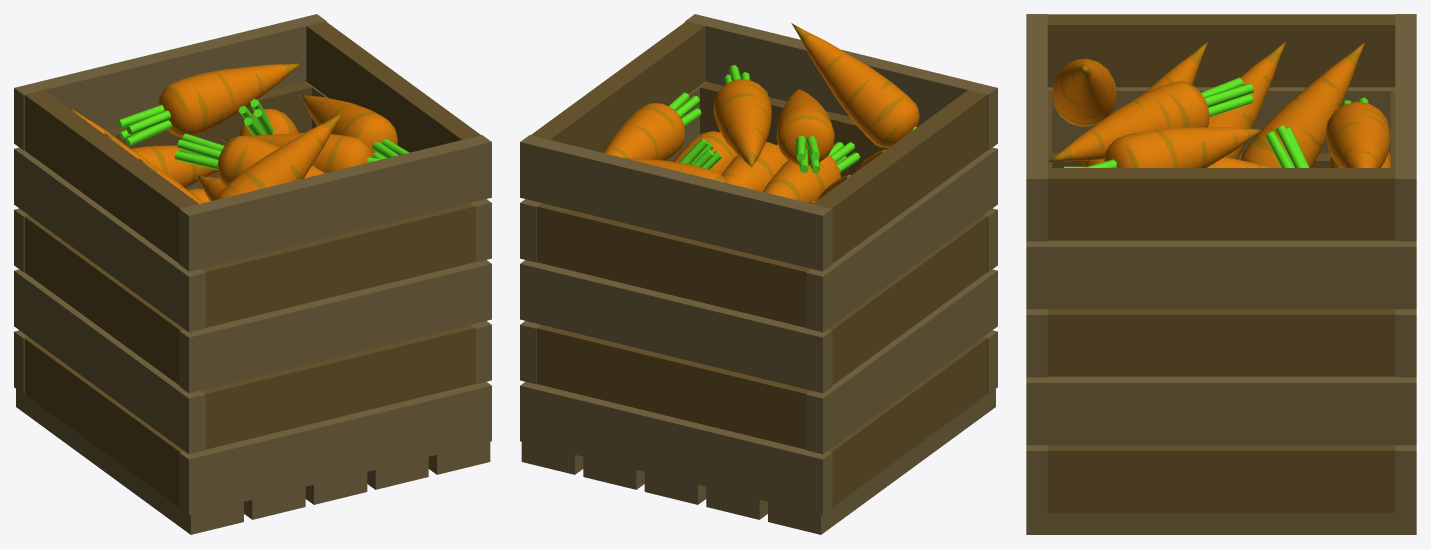
The model's file is Carrot_Сrop.fbx.
3 views of the same model, side by side, from view 1: azimuth 30°, elevation 25°; view 2: azimuth 150°, elevation 25°; view 3: azimuth 270°, elevation 25° (orthographic). The views are drawn at different scales.
Visible parts, largest first — view 1: Carrot_Сrop; view 2: Carrot_Сrop; view 3: Carrot_Сrop.
Boxes of the visible parts, <box> form: Carrot_Сrop: <box>14,14,491,534</box>; Carrot_Сrop: <box>520,14,997,534</box>; Carrot_Сrop: <box>1026,14,1416,534</box>.
Size of the model in its own units: 37.5 by 37.5 by 42.54.
